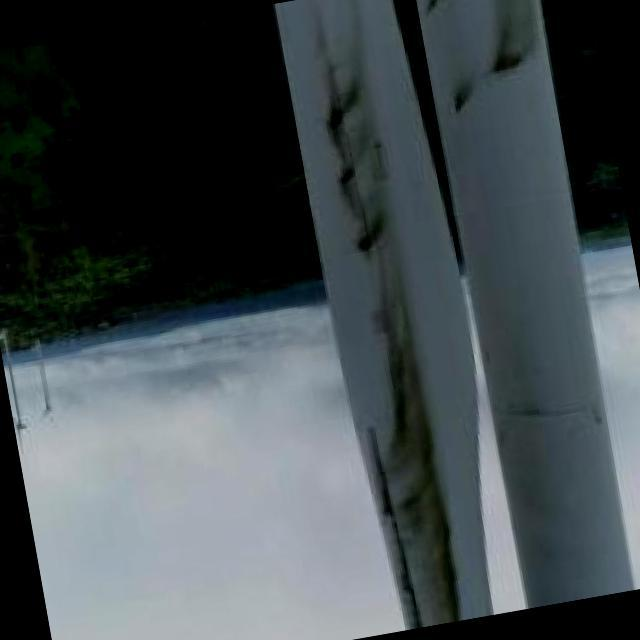Dirt: (296, 0, 463, 640), (412, 0, 552, 117)
Oil LEAKAGE: (362, 296, 460, 640), (318, 79, 362, 131), (352, 218, 388, 258), (484, 42, 527, 74)
Pin Hole: (449, 89, 472, 114), (336, 162, 360, 185), (373, 138, 387, 150)
